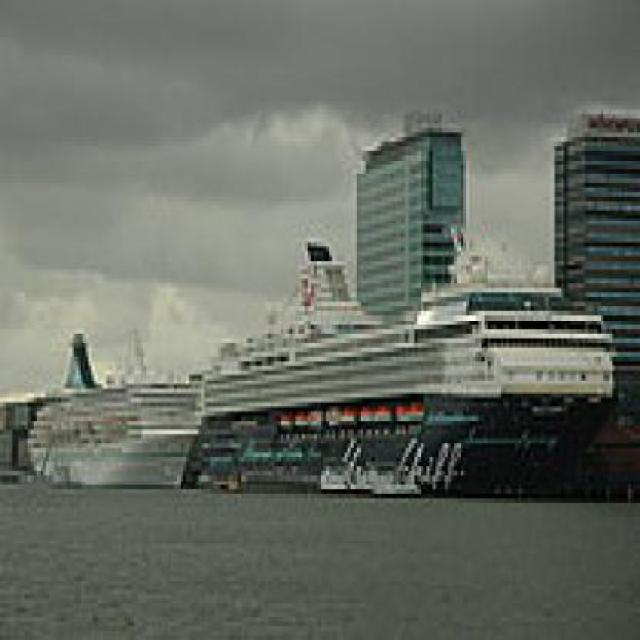cruise: (190, 234, 627, 482), (19, 321, 212, 495)
